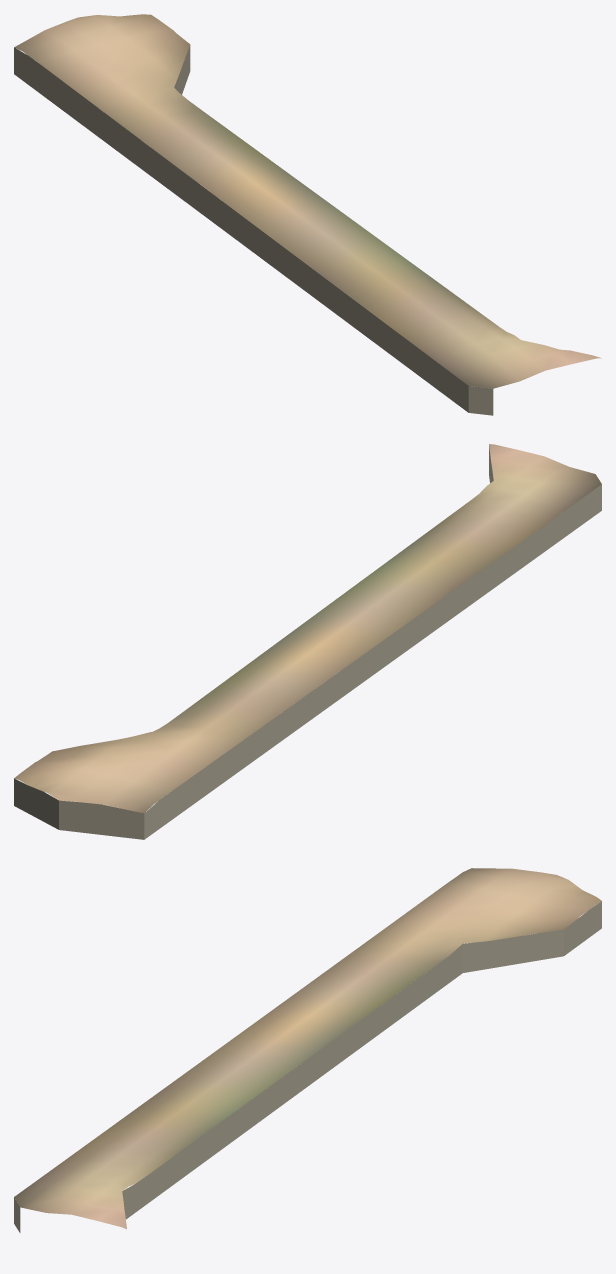
File: terrain.glb
3 views of the same model, one above another, from view 1: azimuth 30°, elevation 25°; view 2: azimuth 150°, elevation 25°; view 3: azimuth 330°, elevation 25° (orthographic).
Visible parts, largest first — view 1: T_W4_N6_terrain; view 2: T_W4_N6_terrain; view 3: T_W4_N6_terrain.
Boxes of the visible parts, x1,y1,x2,y2 form: T_W4_N6_terrain: [14, 14, 601, 415]; T_W4_N6_terrain: [14, 444, 601, 839]; T_W4_N6_terrain: [14, 868, 601, 1232].
Size of the model in its own units: 27.45 by 6 by 162.
